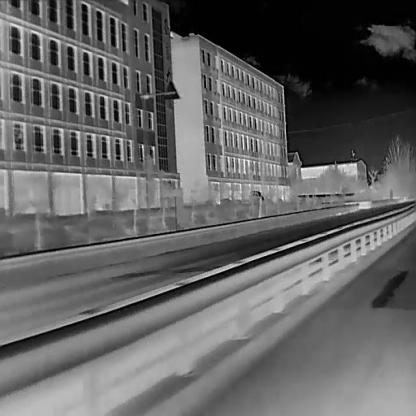truck: (230, 190, 264, 206)
